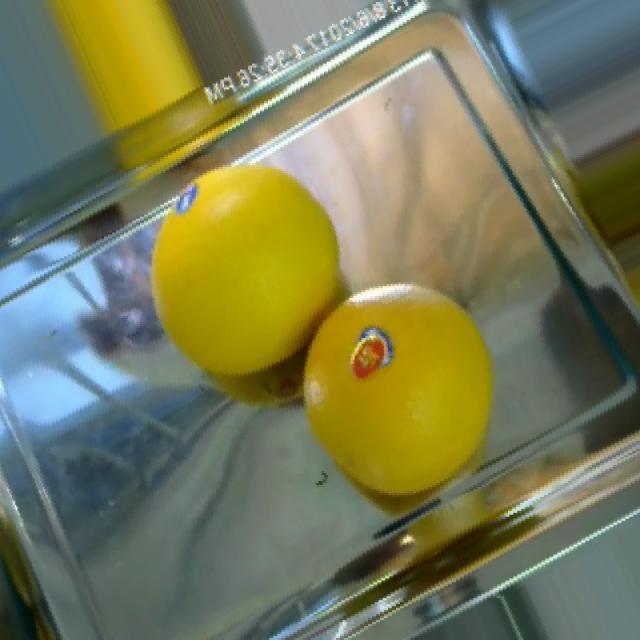Orange: (149, 161, 344, 380), (301, 280, 495, 499)
